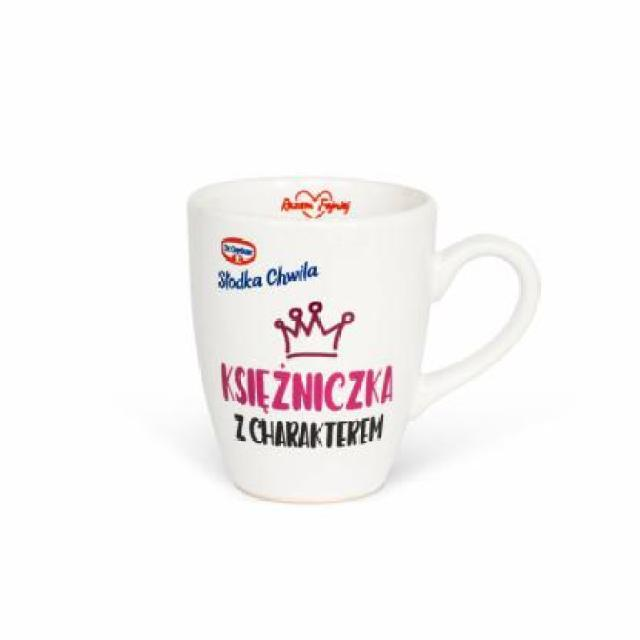cup: (185, 171, 539, 505)
